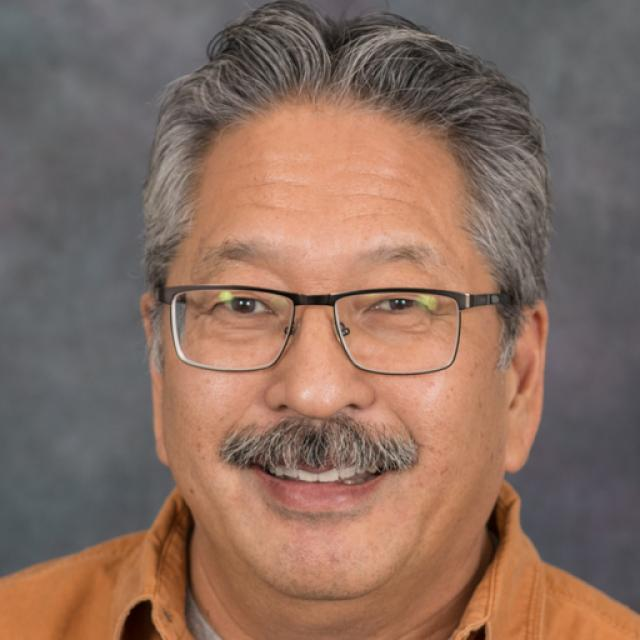Wrinkle: (353, 188, 453, 248), (238, 172, 309, 191), (350, 168, 415, 188), (344, 208, 402, 222), (236, 198, 288, 213)
